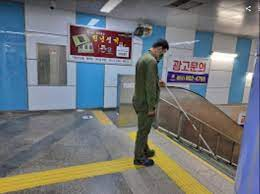guide_blocks: (133, 132, 211, 194), (1, 161, 110, 194), (112, 156, 166, 168), (95, 110, 110, 125)
